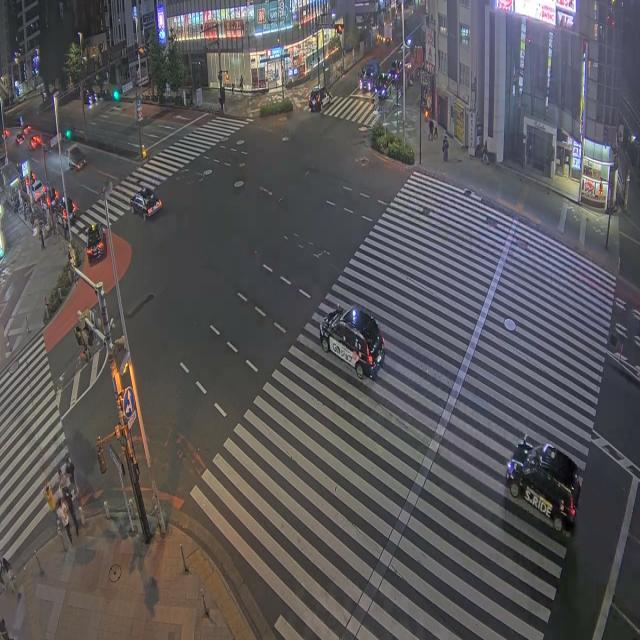car: (506, 437, 581, 531), (320, 306, 384, 379), (131, 188, 161, 219), (86, 224, 106, 261), (56, 197, 76, 225), (309, 86, 331, 111), (65, 145, 86, 170), (374, 74, 391, 100), (359, 69, 375, 92), (388, 59, 402, 82), (32, 181, 45, 201), (84, 89, 97, 106), (30, 136, 42, 150), (15, 132, 25, 144), (23, 125, 32, 135), (3, 128, 9, 138)
truck: (383, 21, 392, 44)
